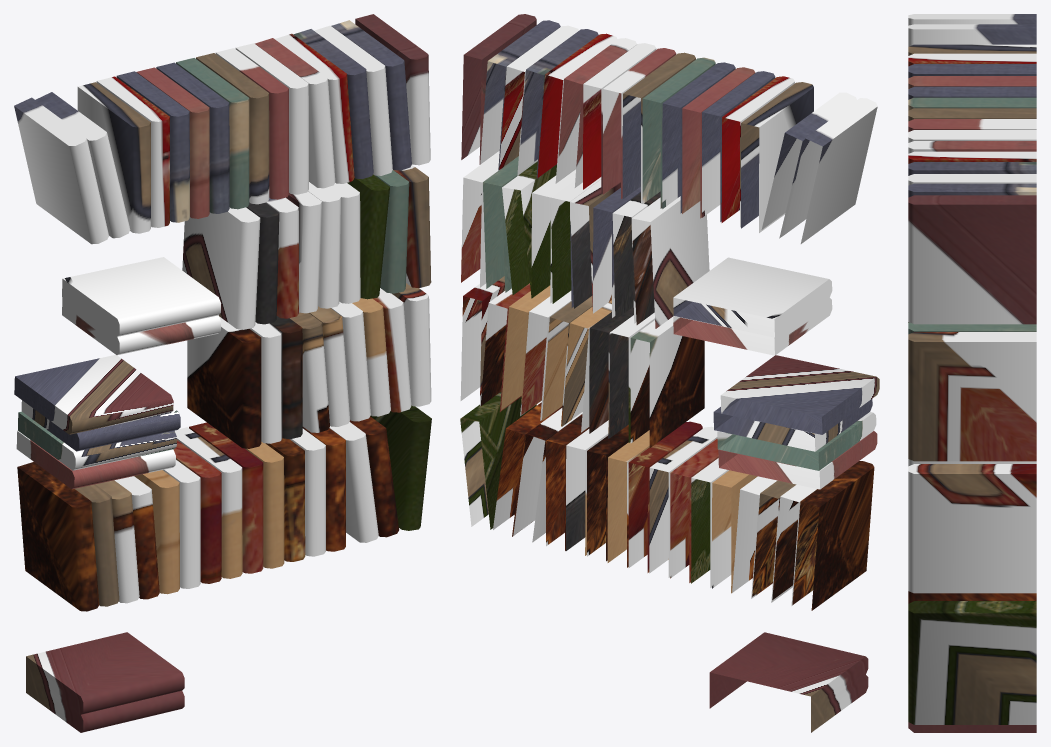
File: BOOKS OBJ.obj
The picture shows the model from 3 angles, left to right: view 1: azimuth 30°, elevation 25°; view 2: azimuth 150°, elevation 25°; view 3: azimuth 270°, elevation 25°; orthographic projection. The views are drawn at different scales.
Parts seen in each view (by area): view 1: Object007; view 2: Object007; view 3: Object007.
Part boxes in pixels (x1,y1,x2,y2): Object007: (14,14,431,732); Object007: (460,14,879,732); Object007: (908,14,1036,732).
Bounding box in the file's own units: 3.64 × 5.7 × 0.9981.
Materials: 1 (1 with a texture image).
